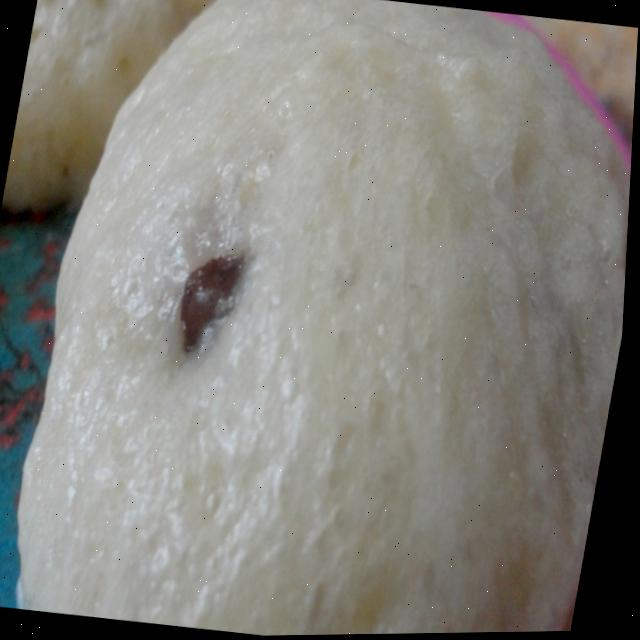带馅早点: (0, 6, 639, 640)
